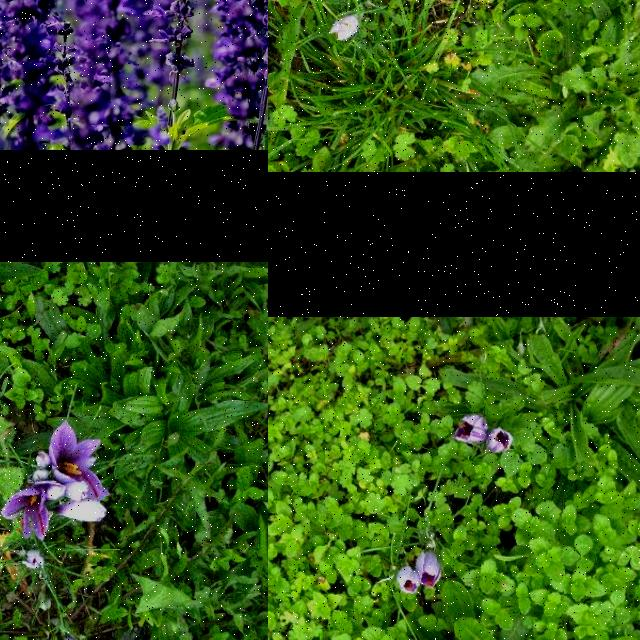flower: (414, 552, 442, 588), (454, 414, 486, 444), (329, 14, 363, 40), (486, 428, 514, 454), (396, 567, 419, 595), (22, 551, 44, 571)
overlap: (1, 420, 110, 540)
